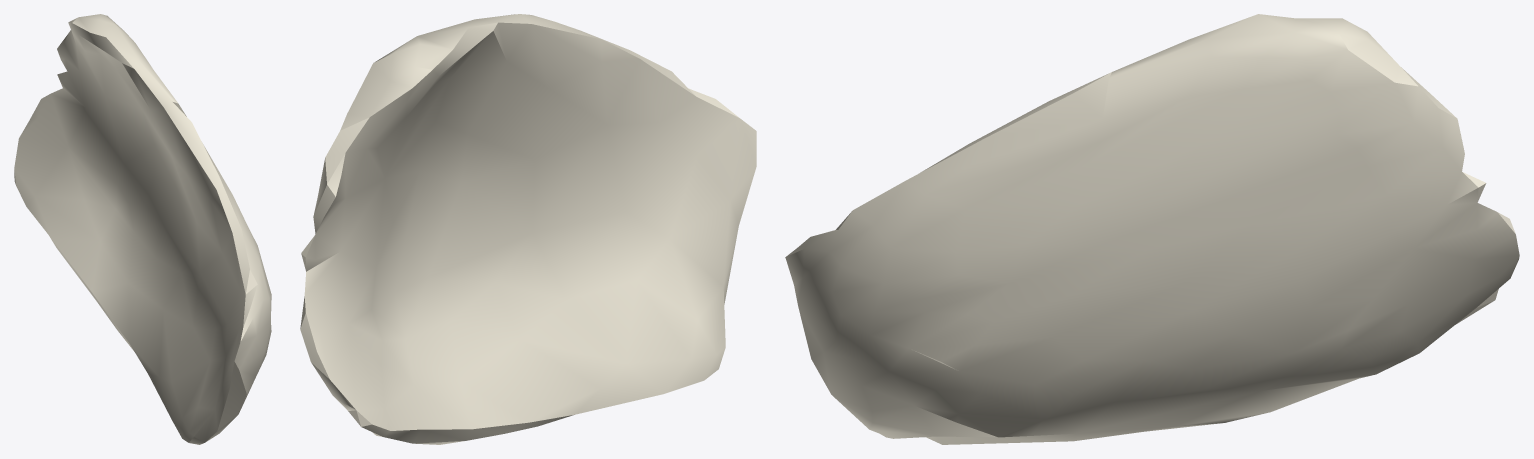
The model's file is fma321701-r_mm1460m.glb.
The picture shows the model from 3 angles, left to right: view 1: azimuth 30°, elevation 25°; view 2: azimuth 150°, elevation 25°; view 3: azimuth 270°, elevation 25°; orthographic projection. The views are drawn at different scales.
Visible parts, largest first — view 1: FMA321701-R_MM1460M; view 2: FMA321701-R_MM1460M; view 3: FMA321701-R_MM1460M.
Part boxes in pixels (x1,y1,x2,y2): FMA321701-R_MM1460M: (14,14,271,444); FMA321701-R_MM1460M: (300,14,756,444); FMA321701-R_MM1460M: (785,14,1519,444).
Size of the model in its own units: 0.00158 by 0.00474 by 0.00698.
